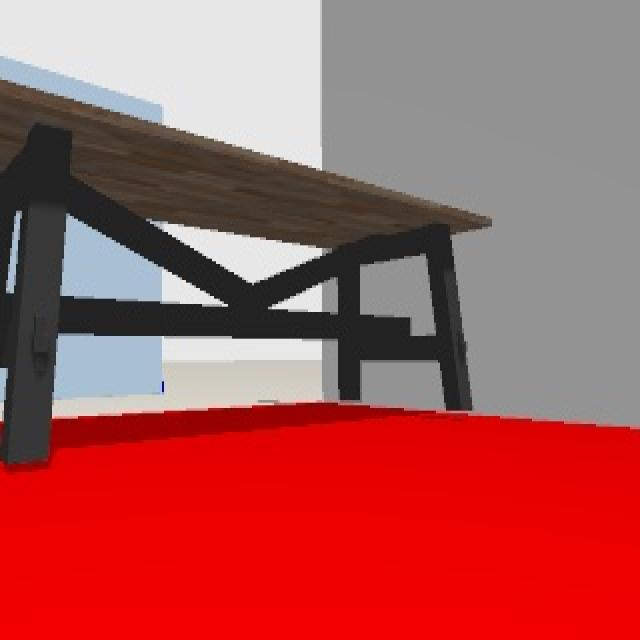dining: (2, 78, 496, 417)
